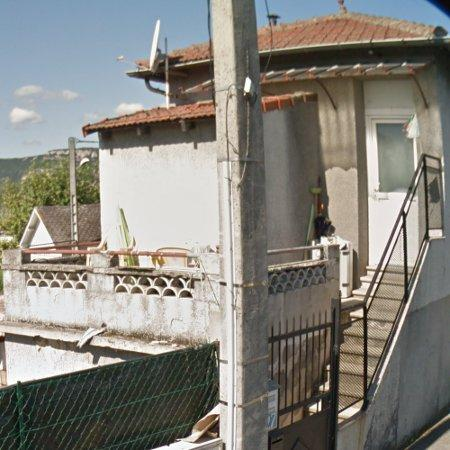stairs: (340, 156, 444, 414)
